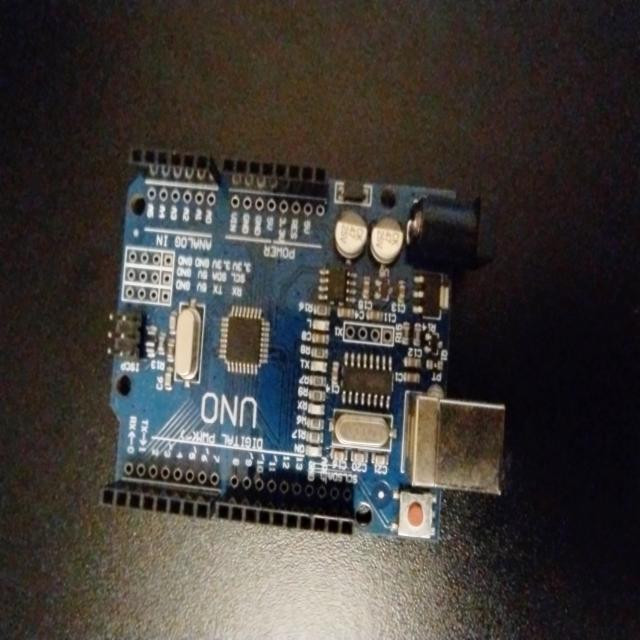arduino: (105, 142, 512, 556)
